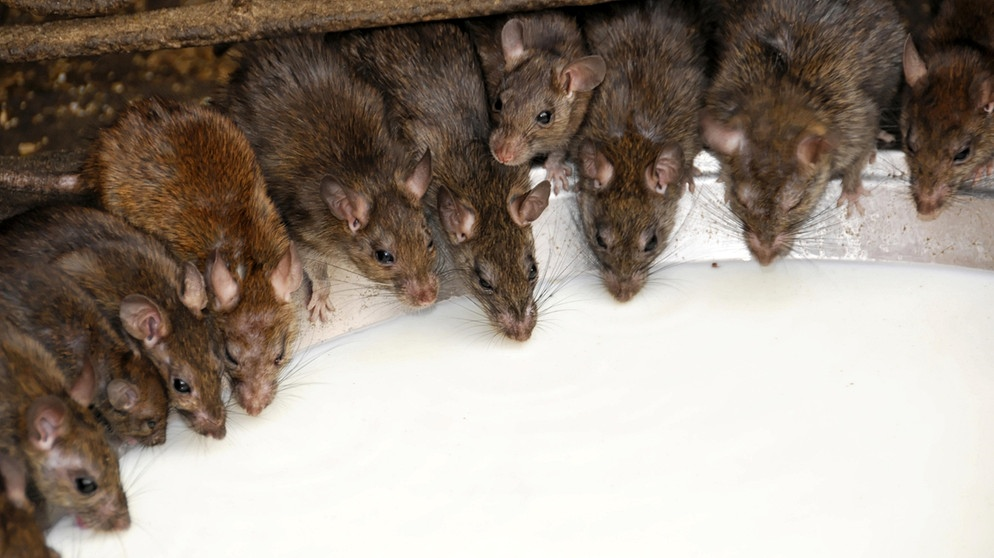rat: (702, 4, 885, 278), (568, 30, 701, 311), (300, 99, 446, 319), (198, 198, 312, 427), (1, 375, 144, 547), (112, 253, 238, 444), (439, 170, 560, 366), (477, 6, 609, 177), (886, 31, 994, 226), (65, 301, 185, 456)
